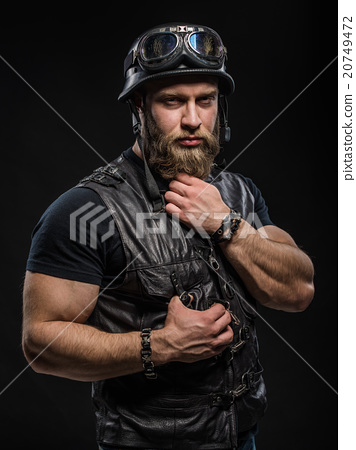helmet: (118, 21, 244, 105)
